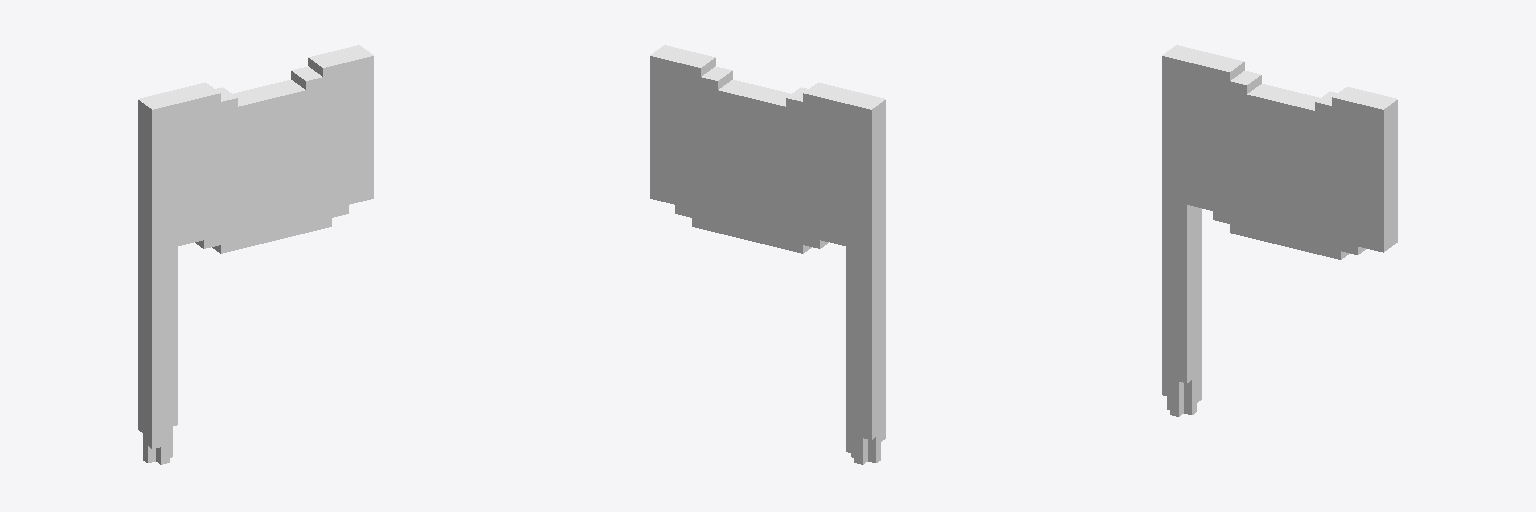
The model's file is flag4.obj.
3 renders of one model, left to right at view 1: azimuth 30°, elevation 25°; view 2: azimuth 150°, elevation 25°; view 3: azimuth 330°, elevation 25°, orthographic.
Visible parts, largest first — view 1: object 1; view 2: object 1; view 3: object 1.
Boxes of the visible parts, box(x1,y1,x2,y2) form: object 1: box(138, 45, 373, 464); object 1: box(650, 45, 885, 464); object 1: box(1162, 45, 1397, 416).
Size of the model in its own units: 2.6 by 4 by 0.3.